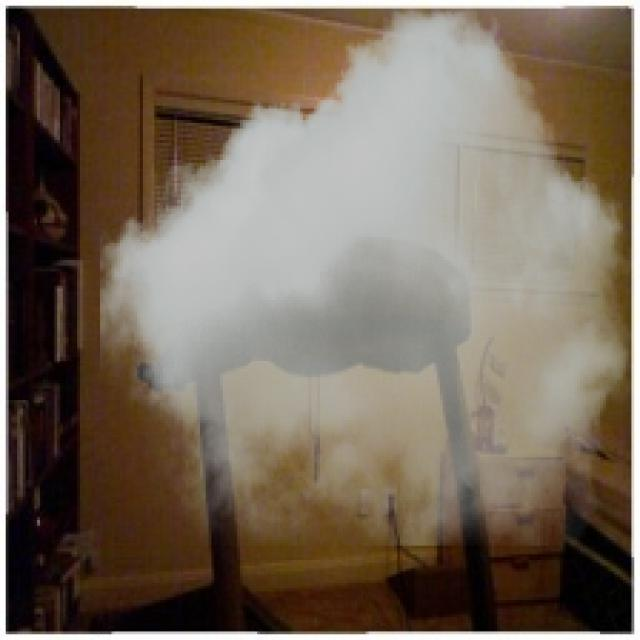smoke: (100, 8, 631, 546)
